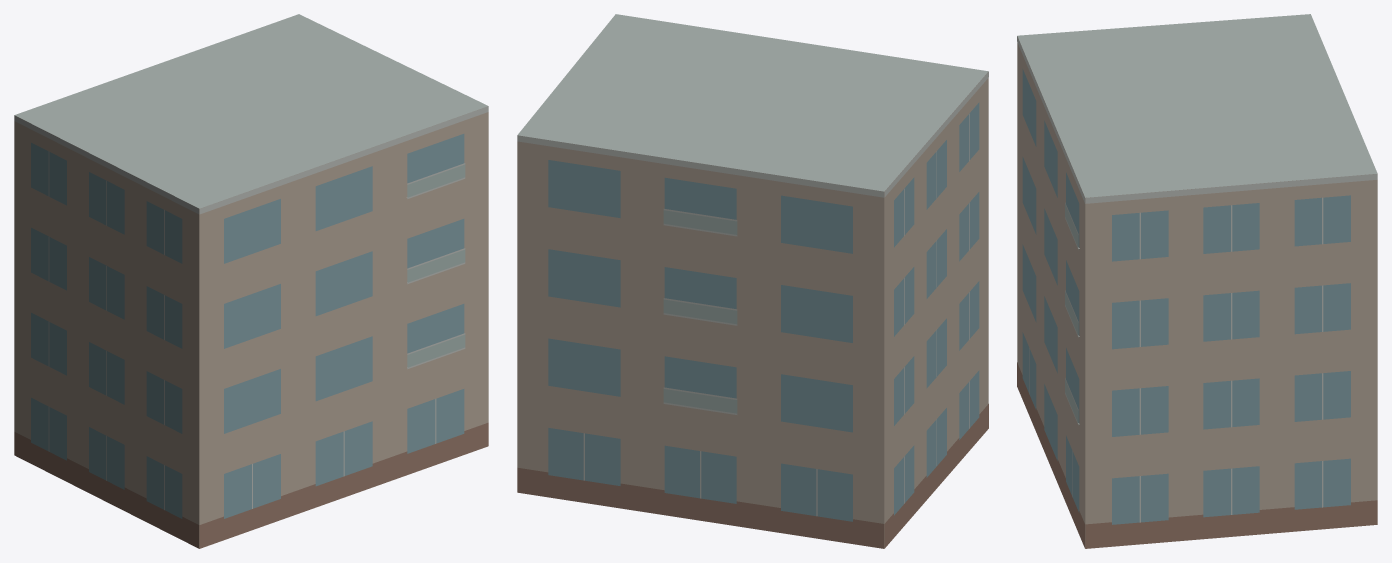
Rendered from survey-upis-32830640.glb.
The picture shows the model from 3 angles, left to right: view 1: azimuth 30°, elevation 25°; view 2: azimuth 150°, elevation 25°; view 3: azimuth 270°, elevation 25°; orthographic projection. The views are drawn at different scales.
Parts seen in each view (by area): view 1: survey-upis-32830640.tmp; view 2: survey-upis-32830640.tmp; view 3: survey-upis-32830640.tmp.
Part boxes in pixels (<box>): survey-upis-32830640.tmp: <box>14,14,488,548</box>; survey-upis-32830640.tmp: <box>517,14,988,548</box>; survey-upis-32830640.tmp: <box>1017,14,1377,548</box>.
Size of the model in its own units: 15.96 by 14.2 by 13.23.
